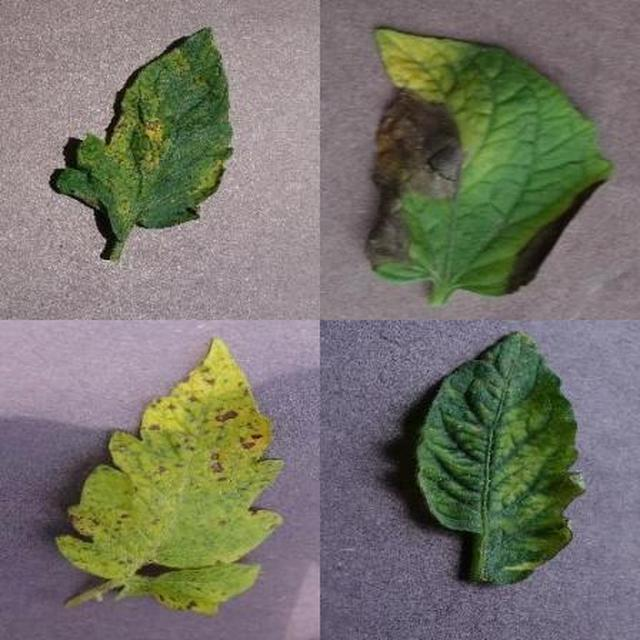Septoria Leaf: (207, 184, 640, 640)
